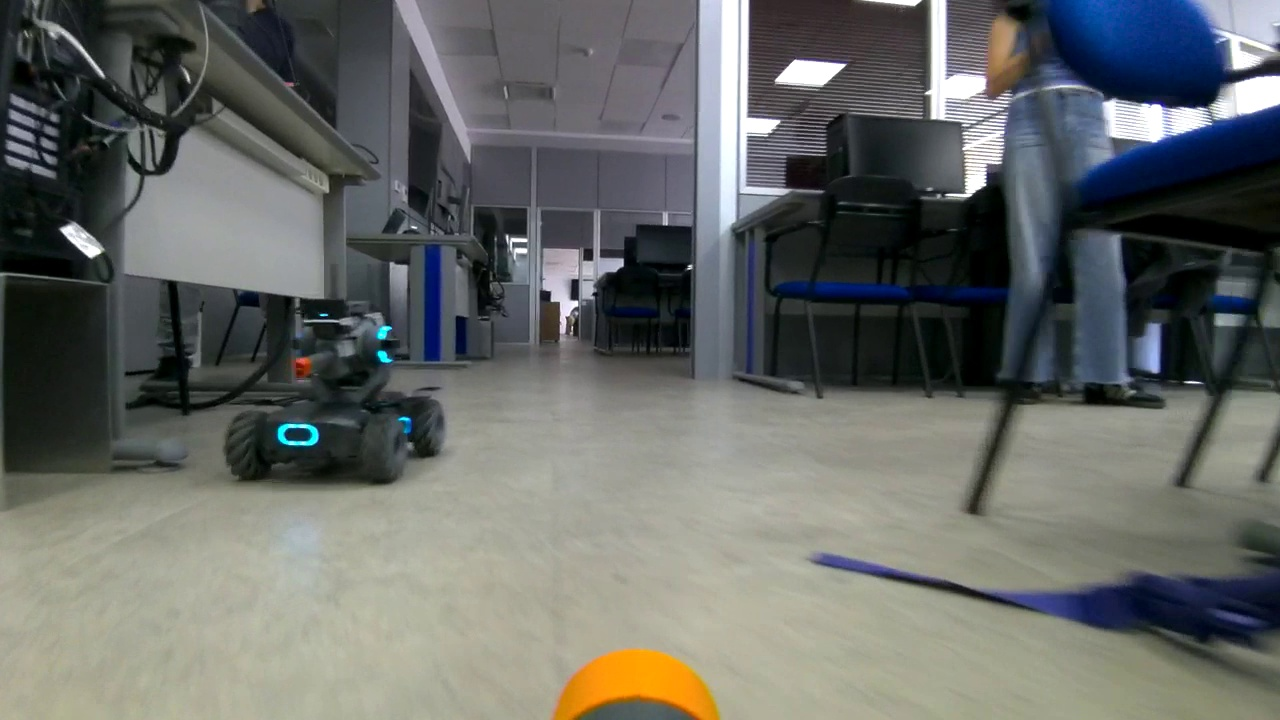robot: (230, 255, 453, 497)
